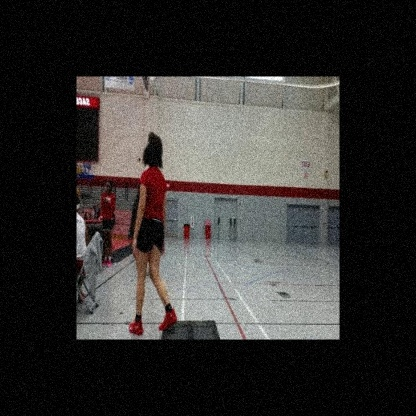lateral_flexion_right: (128, 126, 180, 340)
stance_width_broad: (128, 161, 179, 339)
